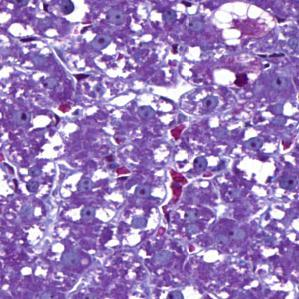ballooning: (206, 3, 277, 48)
